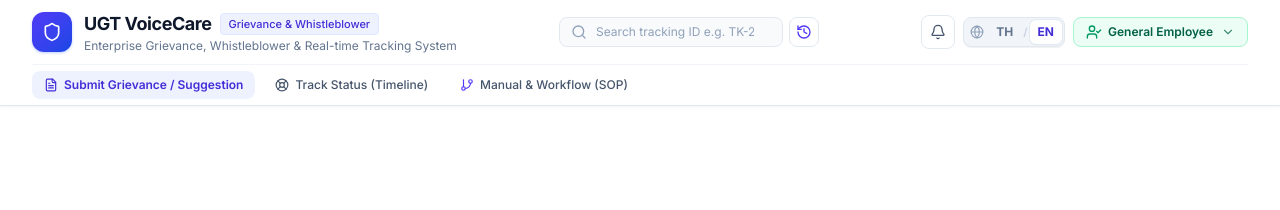
Test: Navbar › bilingual chrome › names the default identity in the language chosen
Step 1. Click the button with id "btn-identity-menu" → (1160, 32), box left=1073, top=17, right=1248, bottom=47
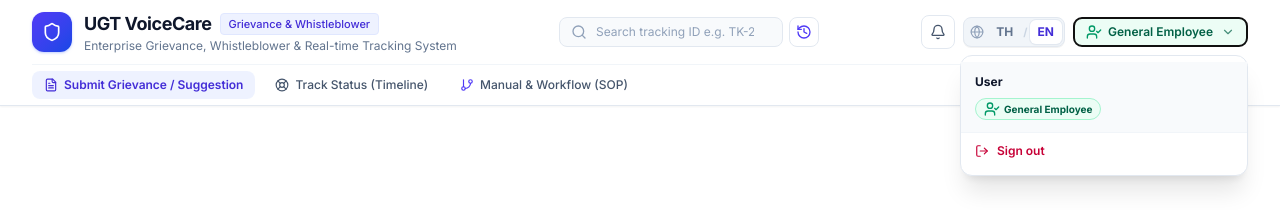
Expected: the text "User" is shown, left=975, top=74, right=1002, bottom=89
